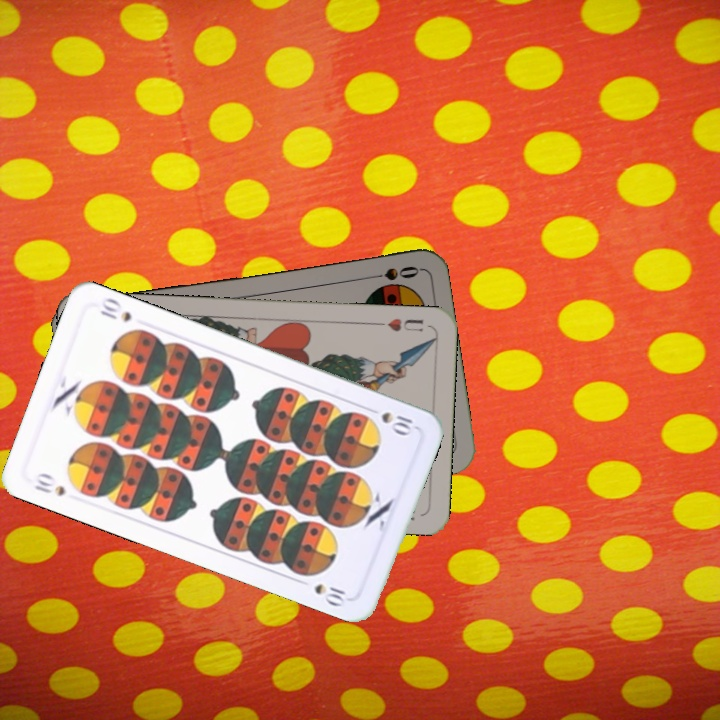HU: (372, 314, 426, 334)
S10: (362, 403, 419, 438), (29, 469, 68, 499)
SO: (363, 261, 422, 283)
